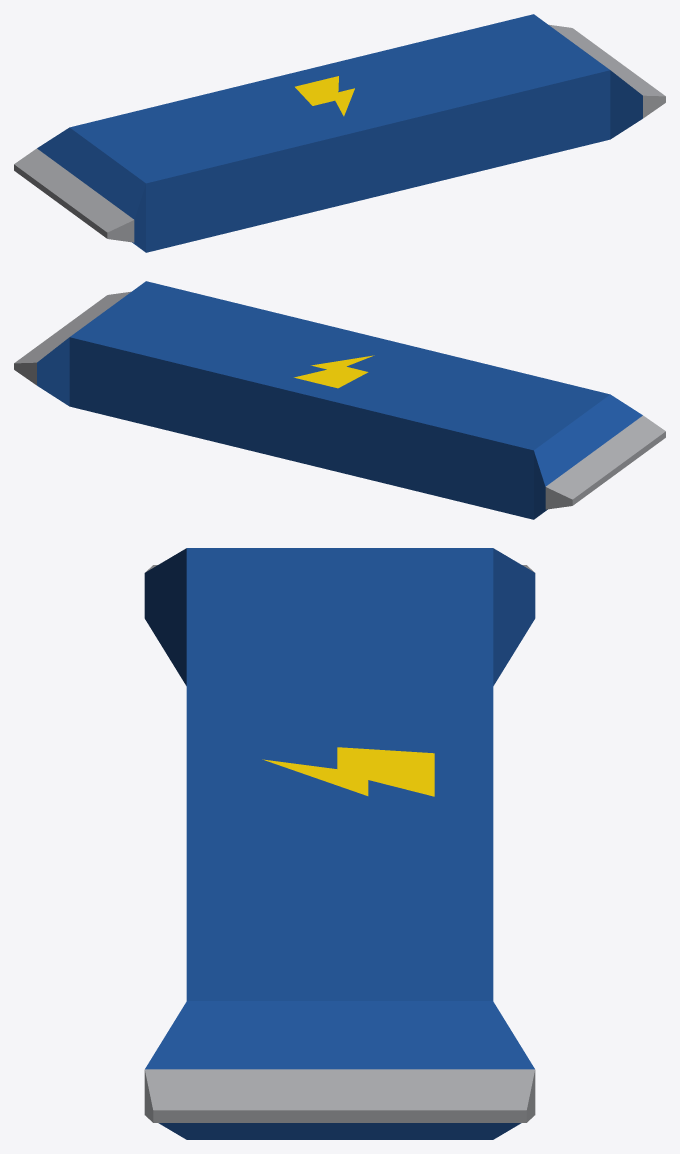
Rendered from Powerbar.fbx.
3 renders of one model, top to bottom at view 1: azimuth 30°, elevation 25°; view 2: azimuth 150°, elevation 25°; view 3: azimuth 270°, elevation 25°, orthographic. The views are drawn at different scales.
Parts seen in each view (by area): view 1: Powerbar; view 2: Powerbar; view 3: Powerbar.
Boxes of the visible parts, bbox=[...] form: Powerbar: bbox=[14, 14, 665, 252]; Powerbar: bbox=[14, 281, 665, 519]; Powerbar: bbox=[144, 548, 535, 1139].
Size of the model in its own units: 21.05 by 2.5 by 6.37.
